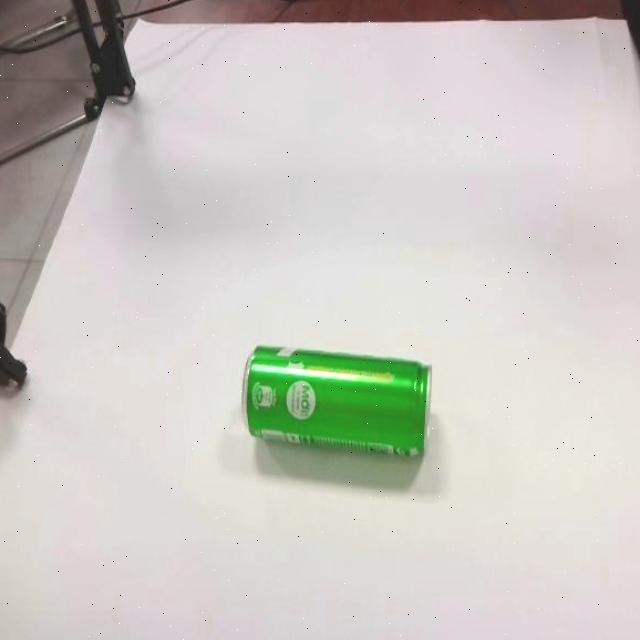debris: (241, 344, 433, 492)
